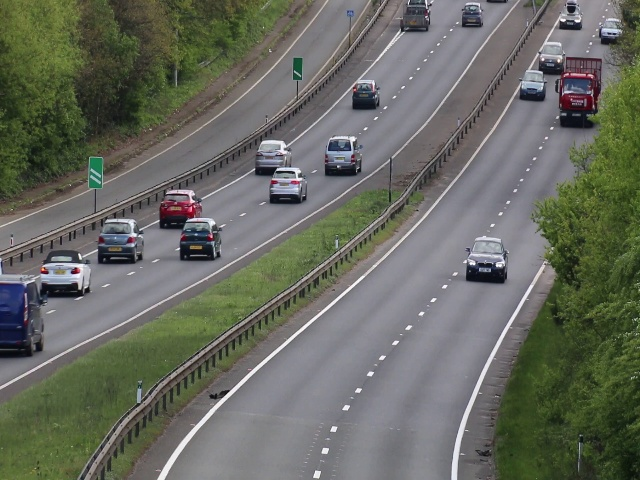car: (1, 274, 50, 356), (555, 64, 599, 129), (36, 248, 92, 297), (463, 233, 510, 286), (176, 217, 226, 263), (99, 218, 146, 265), (158, 188, 206, 230), (324, 133, 363, 176), (251, 136, 292, 176), (267, 166, 308, 205), (398, 1, 433, 33), (350, 77, 381, 111), (519, 68, 546, 105), (538, 38, 565, 73), (458, 1, 486, 28), (559, 1, 583, 30), (600, 15, 620, 46)
